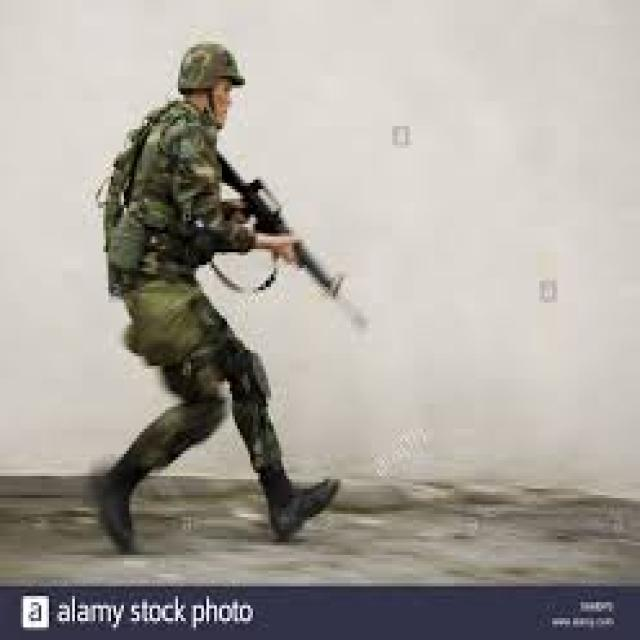soldier: (93, 20, 360, 552)
